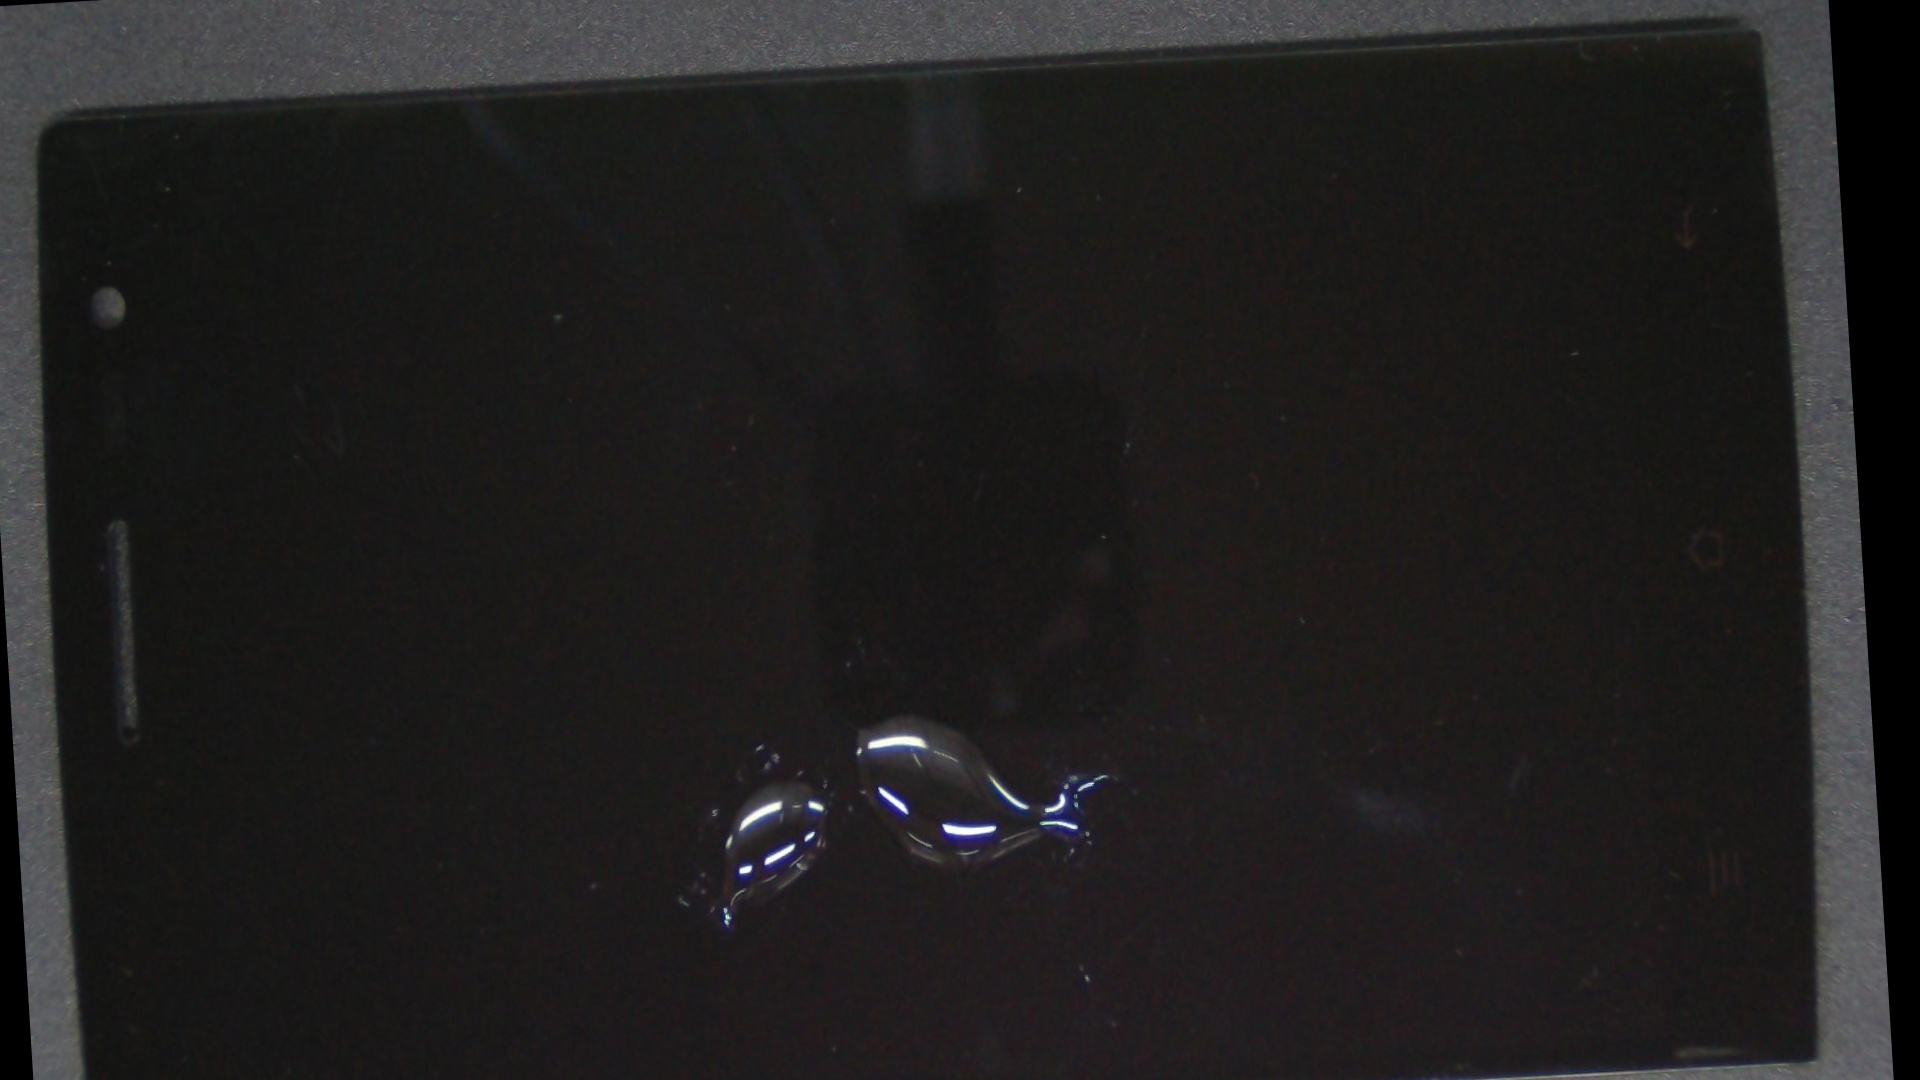oil: (435, 307, 1367, 1080), (369, 349, 1171, 1080)
